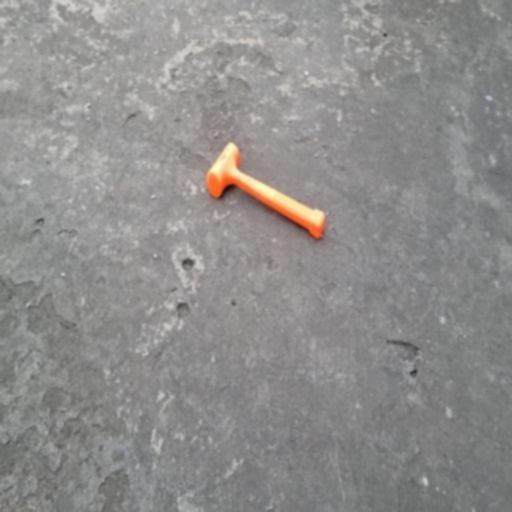mallet: (207, 140, 325, 237)
